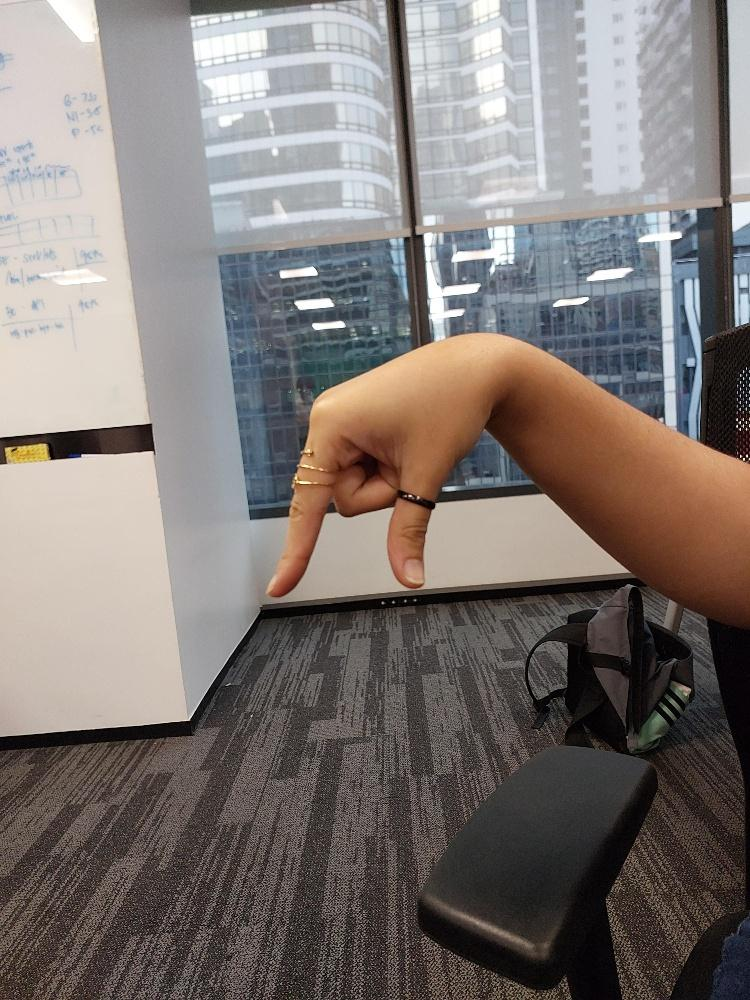q: (263, 326, 521, 600)
